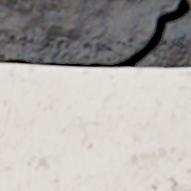brick: (0, 64, 190, 190)
crack: (0, 0, 189, 67)
